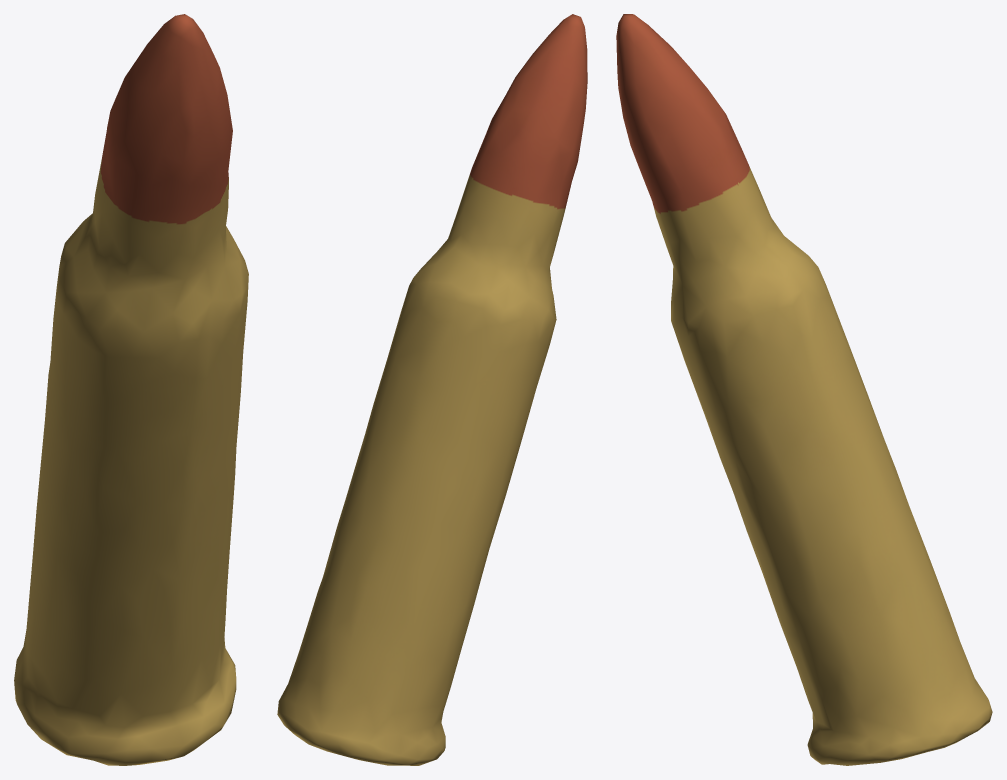
Rendered from AssaultRifle_Cartridge.glb.
The picture shows the model from 3 angles, left to right: view 1: azimuth 30°, elevation 25°; view 2: azimuth 150°, elevation 25°; view 3: azimuth 270°, elevation 25°; orthographic projection. The views are drawn at different scales.
Size of the model in its own units: 0.2713 by 0.9126 by 0.4441.
1 material, 1 textured.
